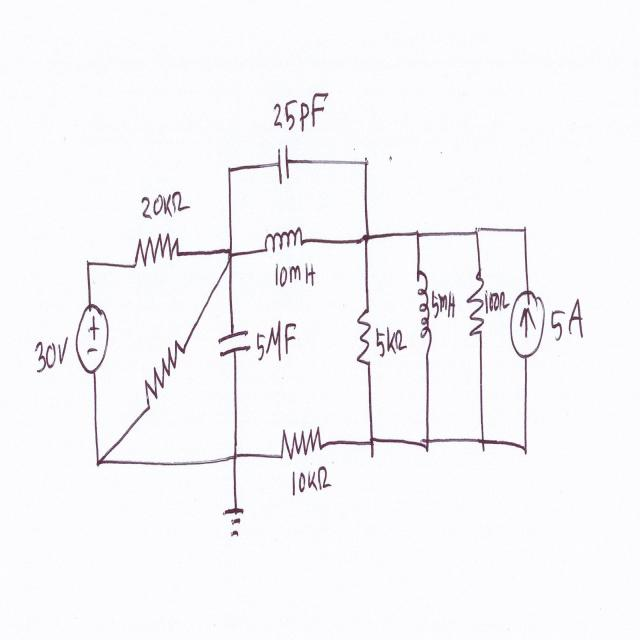capacitor: (216, 326, 254, 361), (274, 144, 293, 182)
current_source: (509, 282, 548, 365)
ground: (218, 497, 252, 547)
inductor: (412, 266, 435, 359), (261, 224, 309, 258)
resistor: (139, 334, 187, 407), (280, 418, 324, 469), (130, 229, 180, 272), (467, 264, 486, 352), (355, 298, 374, 376)
voltage_source: (74, 300, 112, 381)
